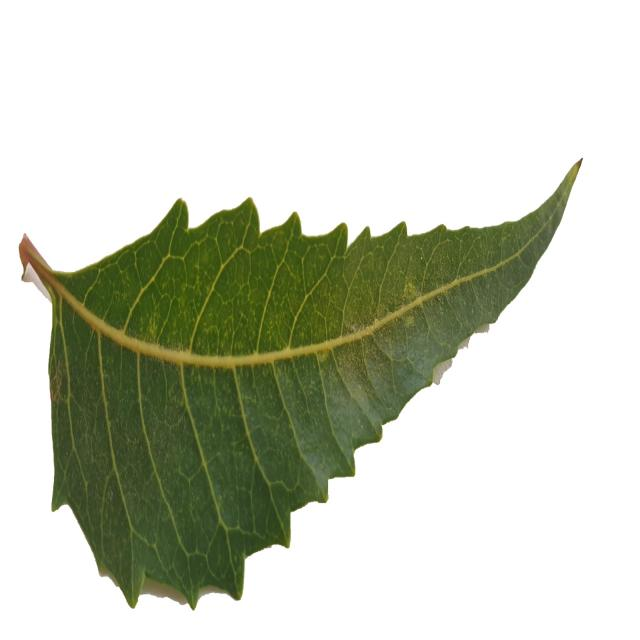Medicinal-Neem: (18, 156, 584, 610)
